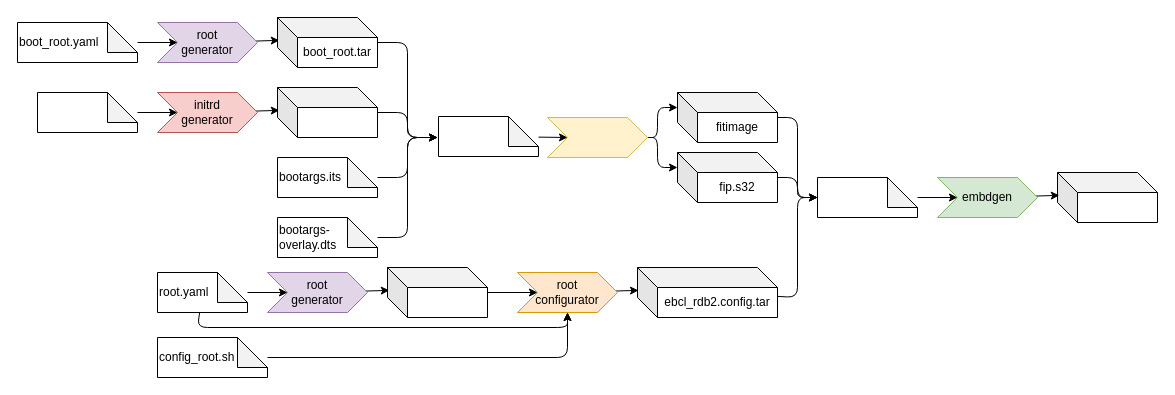
The diagram is 1175 pixels wide and 395 high, and some of its shapes have lost their labels. The shapes that lost their labels are listed below. From the top down, each one's box as (x1, y1, x2, y2) in pixels, then its label:
(36, 92, 138, 132): initrd.yaml
(276, 86, 378, 138): initrd.img
(438, 116, 538, 156): boot.yaml
(546, 116, 648, 158): boot generator
(816, 176, 918, 218): image.yaml
(1056, 172, 1158, 222): image.raw
(386, 266, 488, 318): ebcl_rdb2.tar
